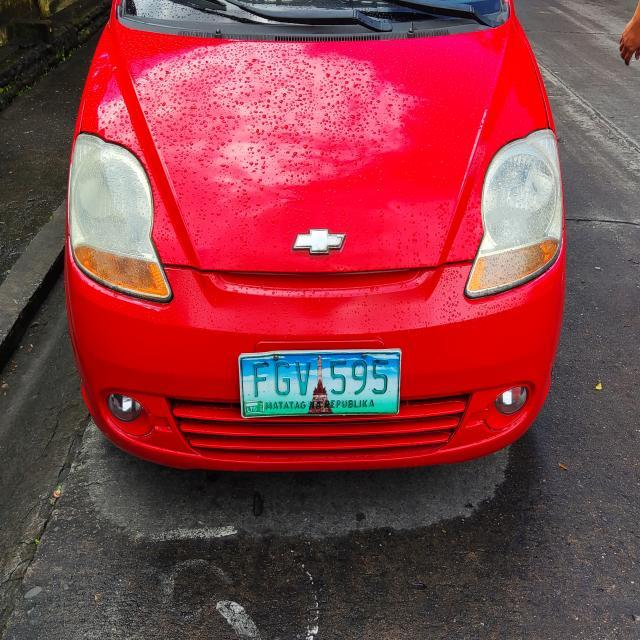LicensePlate: (230, 347, 412, 428)
